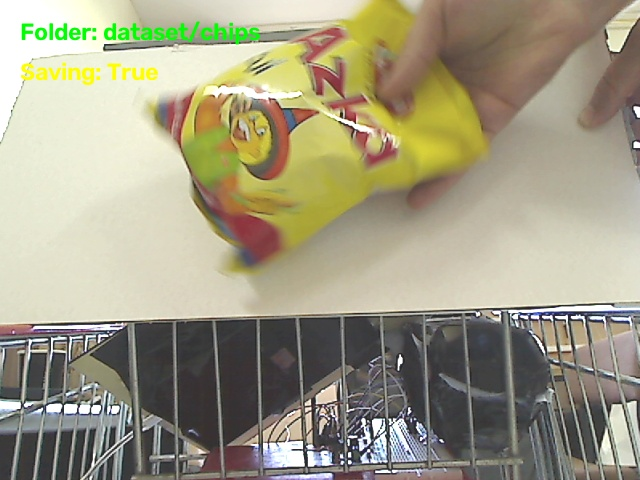chips: (152, 0, 486, 268)
